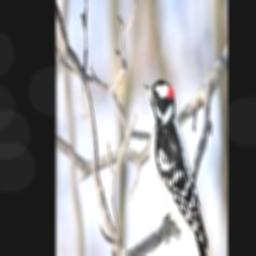Woodpecker: (142, 80, 214, 256)
